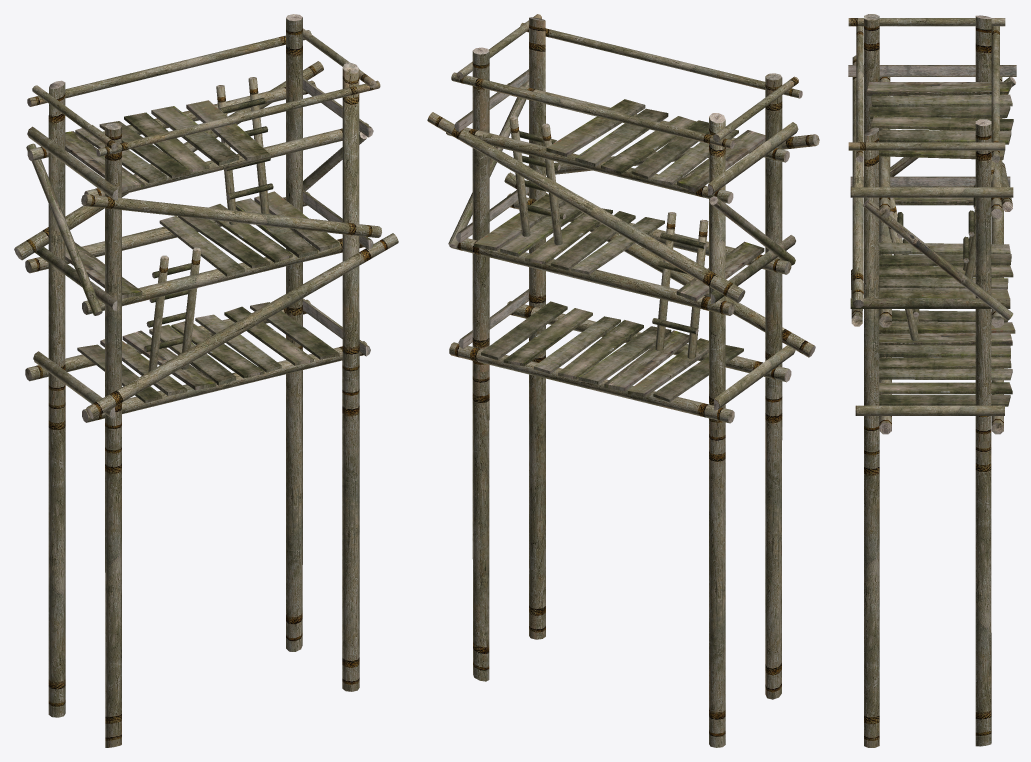
Rendered from scaffold_up_scaffold.glb.
The picture shows the model from 3 angles, left to right: view 1: azimuth 30°, elevation 25°; view 2: azimuth 150°, elevation 25°; view 3: azimuth 270°, elevation 25°; orthographic projection.
Parts seen in each view (by area): view 1: scaffold_up_scaffold_part0; view 2: scaffold_up_scaffold_part0; view 3: scaffold_up_scaffold_part0.
Part boxes in pixels (x1=…): scaffold_up_scaffold_part0: x1=14, y1=14, x2=398, y2=747; scaffold_up_scaffold_part0: x1=427, y1=14, x2=819, y2=747; scaffold_up_scaffold_part0: x1=848, y1=14, x2=1016, y2=747.
Size of the model in its own units: 2.22 by 4.29 by 1.04.
Materials: 1 (1 with a texture image).
